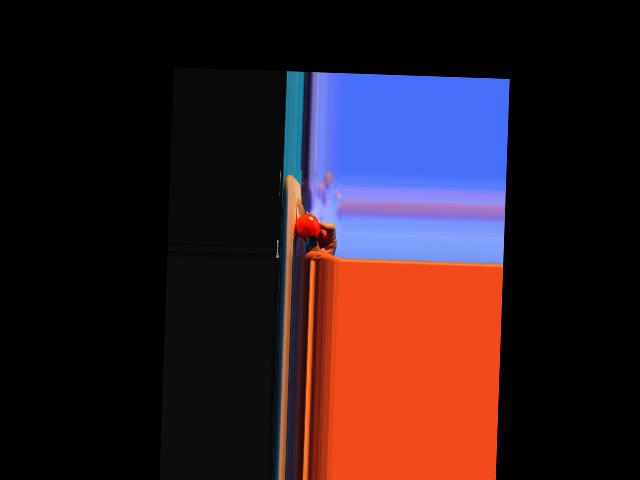tomato: (294, 212, 319, 239)
